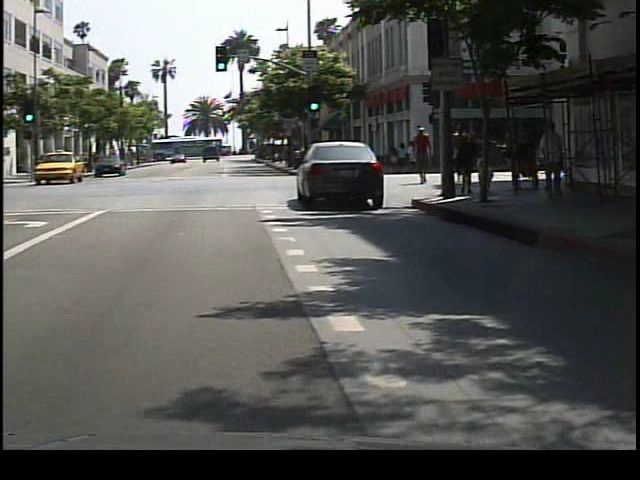person: (414, 124, 441, 189)
